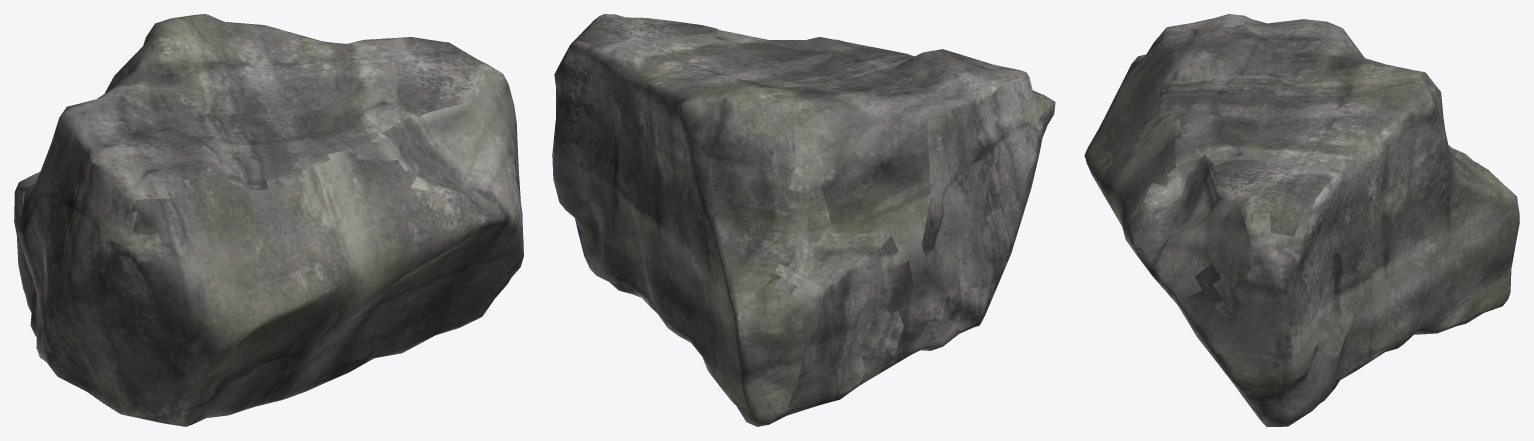
Rendered from SM_Small_Rock_D.fbx.
3 views of the same model, side by side, from view 1: azimuth 30°, elevation 25°; view 2: azimuth 150°, elevation 25°; view 3: azimuth 270°, elevation 25° (orthographic). The views are drawn at different scales.
Visible parts, largest first — view 1: SM_Small_Rock_D_LOD0; view 2: SM_Small_Rock_D_LOD0; view 3: SM_Small_Rock_D_LOD0.
Part boxes in pixels (box(x1,y1,x2,y2)): SM_Small_Rock_D_LOD0: box(14, 14, 523, 426); SM_Small_Rock_D_LOD0: box(552, 14, 1055, 426); SM_Small_Rock_D_LOD0: box(1084, 14, 1519, 426).
Bounding box in the file's own units: 142 × 128 × 85.33.
